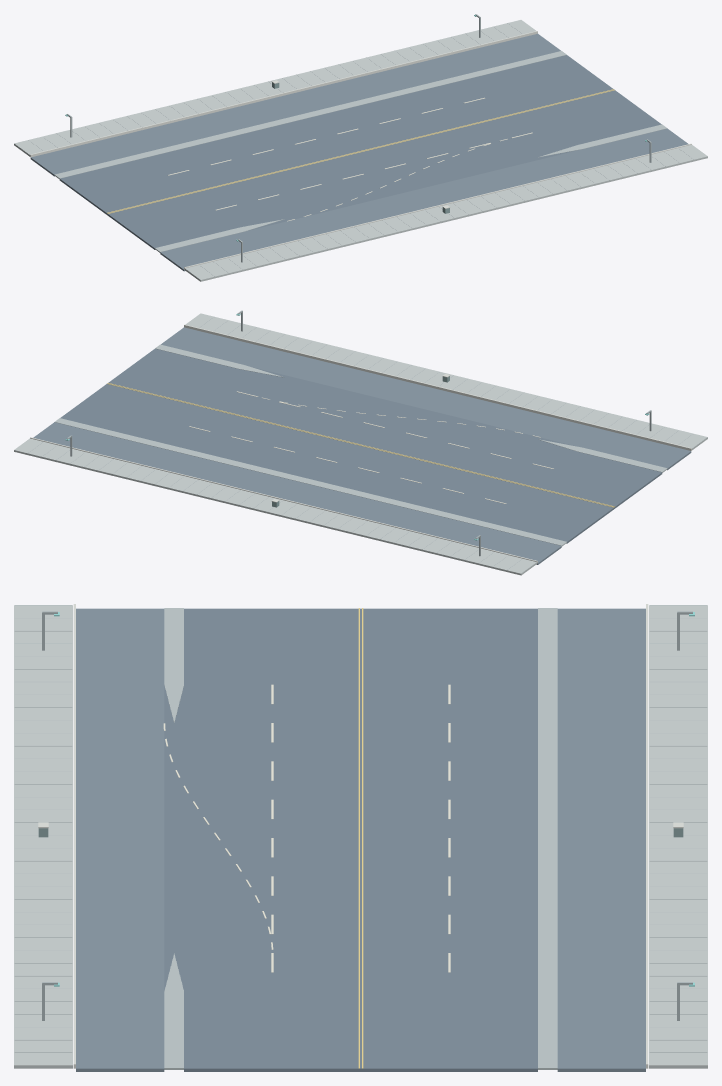
File: city-w59-s39.glb
The picture shows the model from 3 angles, top to bottom: view 1: azimuth 30°, elevation 25°; view 2: azimuth 150°, elevation 25°; view 3: azimuth 270°, elevation 25°; orthographic projection. The views are drawn at different scales.
Visible parts, largest first — view 1: Main_road, Frontage_roads, Sidewalk, Medians, Curbs, Merge_surface, Paving_joints, Center_lines, Lane_markings; view 2: Main_road, Frontage_roads, Sidewalk, Medians, Curbs, Merge_surface, Paving_joints, Center_lines, Lane_markings; view 3: Main_road, Frontage_roads, Sidewalk, Medians, Merge_surface, Paving_joints, Curbs, Center_lines, Lane_markings, Street_lights.
Boxes of the visible parts, <box> form: Main_road: <box>59,55,661,249</box>; Frontage_roads: <box>30,33,688,271</box>; Sidewalk: <box>14,20,707,281</box>; Medians: <box>54,51,667,252</box>; Curbs: <box>30,31,691,269</box>; Merge_surface: <box>248,147,579,230</box>; Paving_joints: <box>14,23,693,279</box>; Center_lines: <box>107,89,614,213</box>; Lane_markings: <box>168,97,532,210</box>; Main_road: <box>60,348,662,543</box>; Frontage_roads: <box>33,327,691,564</box>; Sidewalk: <box>14,313,707,575</box>; Medians: <box>54,344,667,546</box>; Curbs: <box>30,324,691,563</box>; Merge_surface: <box>242,367,575,451</box>; Paving_joints: <box>28,316,707,573</box>; Center_lines: <box>107,383,614,507</box>; Lane_markings: <box>189,391,553,503</box>; Main_road: <box>184,608,537,1071</box>; Frontage_roads: <box>76,608,645,1071</box>; Sidewalk: <box>14,605,707,1068</box>; Medians: <box>164,608,557,1069</box>; Merge_surface: <box>164,685,183,990</box>; Paving_joints: <box>14,605,707,1052</box>; Curbs: <box>73,604,648,1068</box>; Center_lines: <box>358,608,363,1068</box>; Lane_markings: <box>271,684,450,972</box>; Street_lights: <box>42,611,694,1020</box>.
Bounding box in the file's own units: 72 × 3.26 × 45.9.
